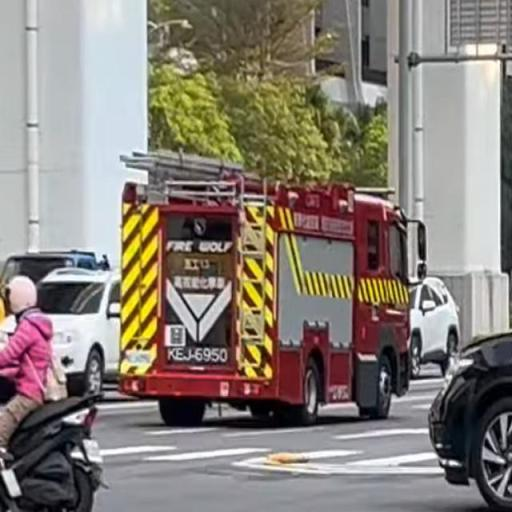fire truck: (118, 152, 431, 425)
